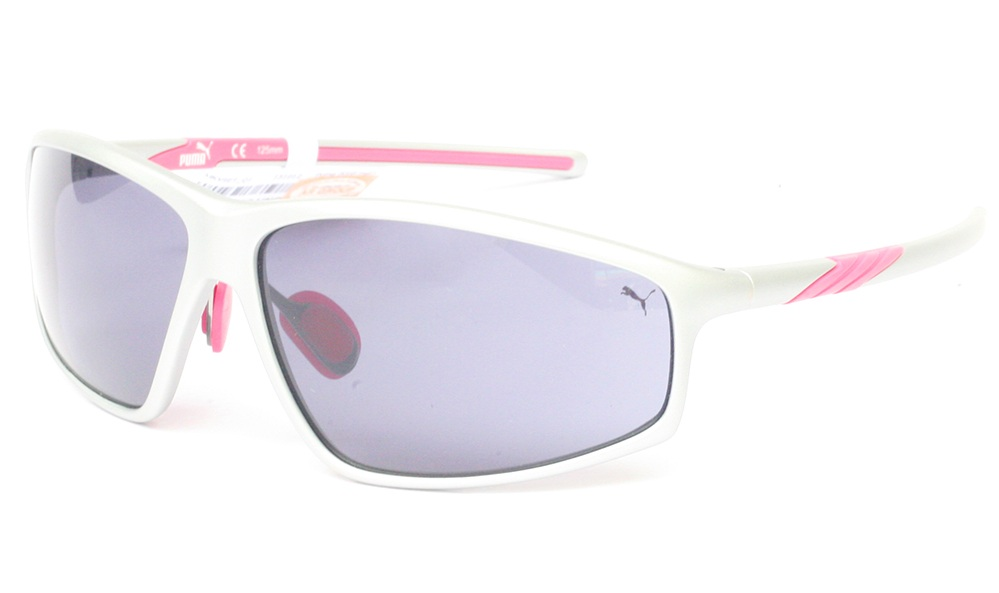Puma: (614, 272, 661, 329), (173, 134, 224, 177)
